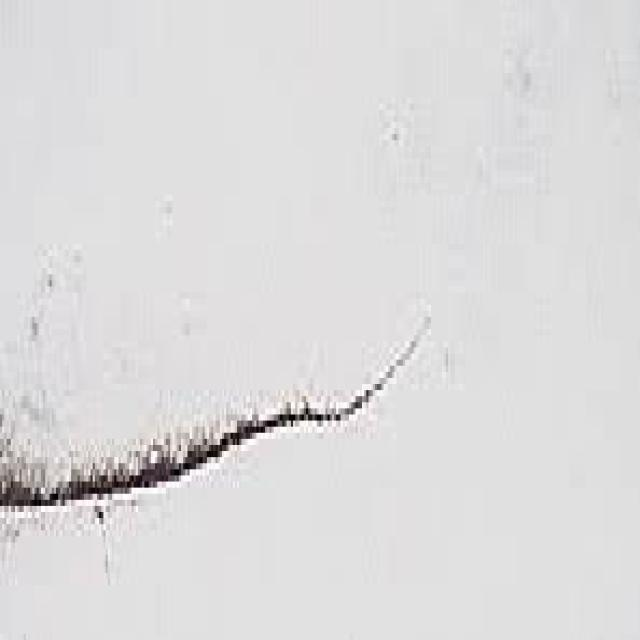Rupture: (2, 329, 446, 536)
